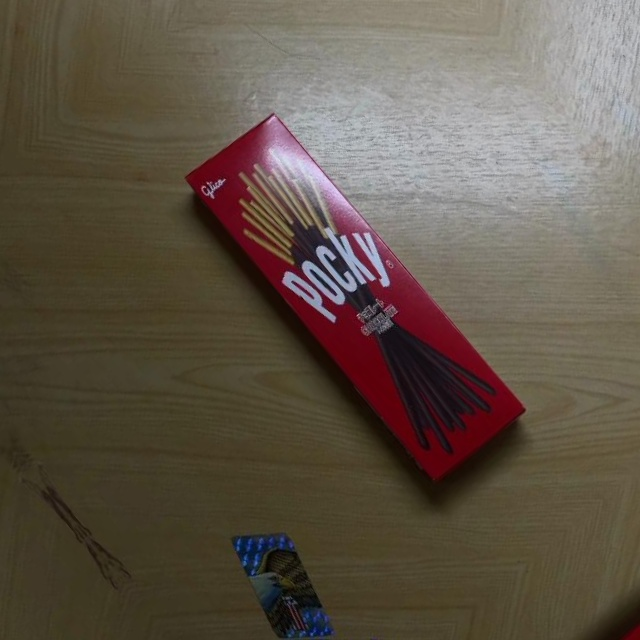Pocky: (179, 103, 529, 488)
